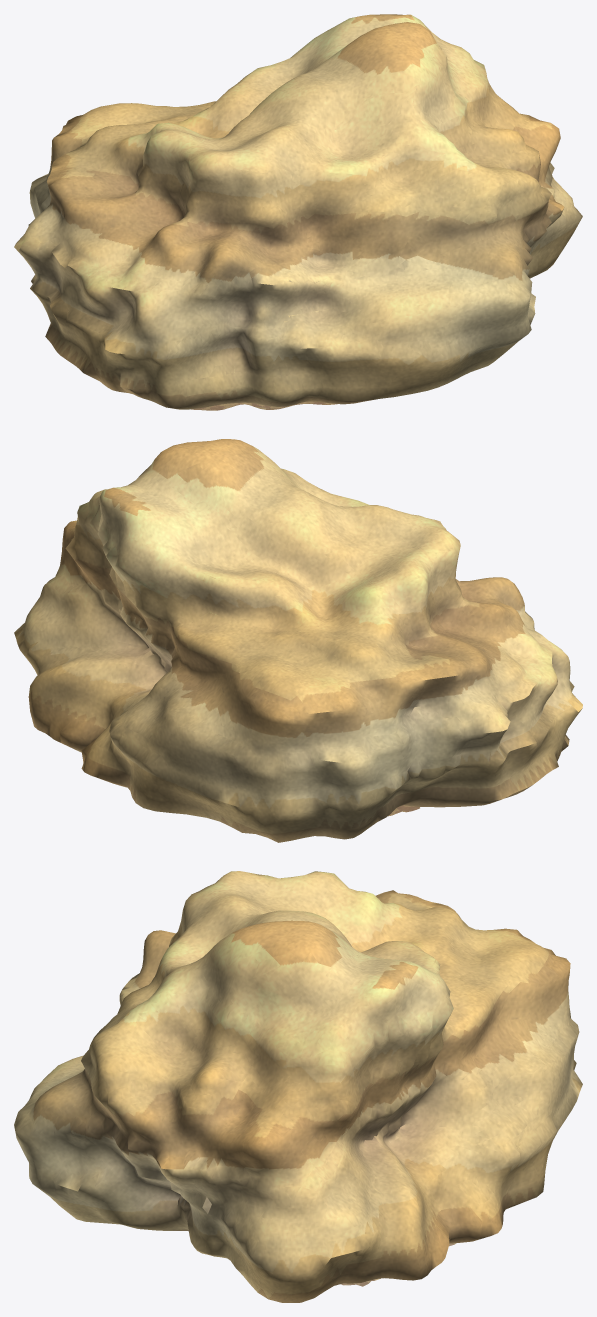
File: WM_RockCoast_A.fbx
3 renders of one model, top to bottom at view 1: azimuth 30°, elevation 25°; view 2: azimuth 150°, elevation 25°; view 3: azimuth 270°, elevation 25°, orthographic. The views are drawn at different scales.
Visible parts, largest first — view 1: WM_RockCoast_A_LOD0; view 2: WM_RockCoast_A_LOD0; view 3: WM_RockCoast_A_LOD0.
Part boxes in pixels (bbox=[...]): WM_RockCoast_A_LOD0: bbox=[14, 14, 582, 410]; WM_RockCoast_A_LOD0: bbox=[14, 439, 582, 842]; WM_RockCoast_A_LOD0: bbox=[14, 871, 582, 1302].
Size of what is drawn, in the model's own units: 2.35 by 1.22 by 2.
